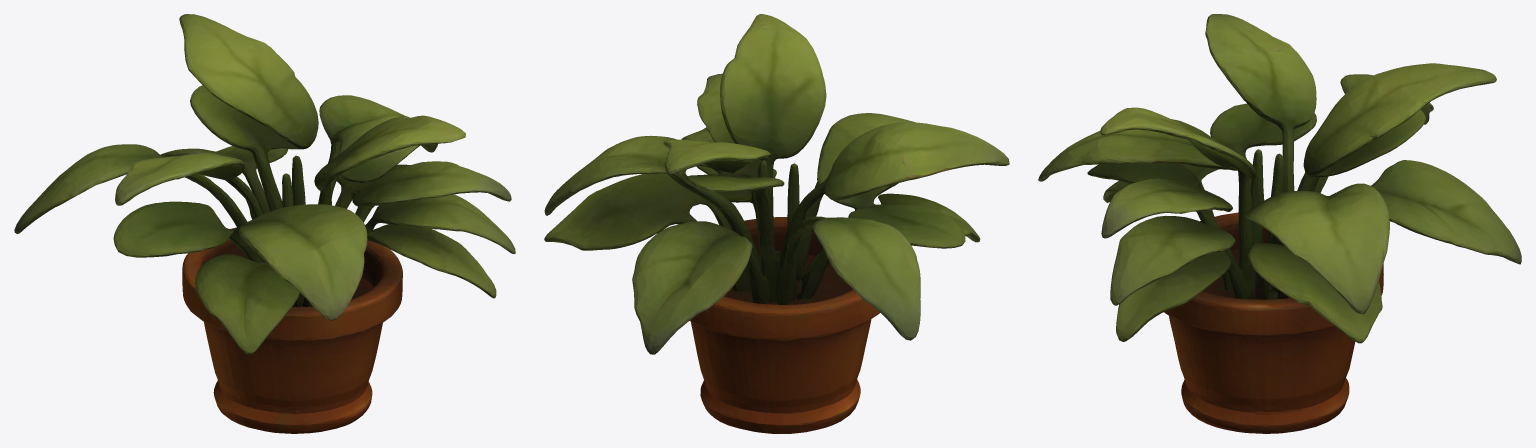
Rendered from house plant.glb.
3 renders of one model, left to right at view 1: azimuth 30°, elevation 25°; view 2: azimuth 150°, elevation 25°; view 3: azimuth 270°, elevation 25°, orthographic. The views are drawn at different scales.
Parts seen in each view (by area): view 1: world; view 2: world; view 3: world.
Part boxes in pixels (left/top/right/bottom): world: left=14, top=14, right=515, bottom=433; world: left=544, top=14, right=1009, bottom=433; world: left=1038, top=14, right=1521, bottom=433.
Size of the model in its own units: 0.9893 by 0.7526 by 1.
Materials: 1 (1 with a texture image).
